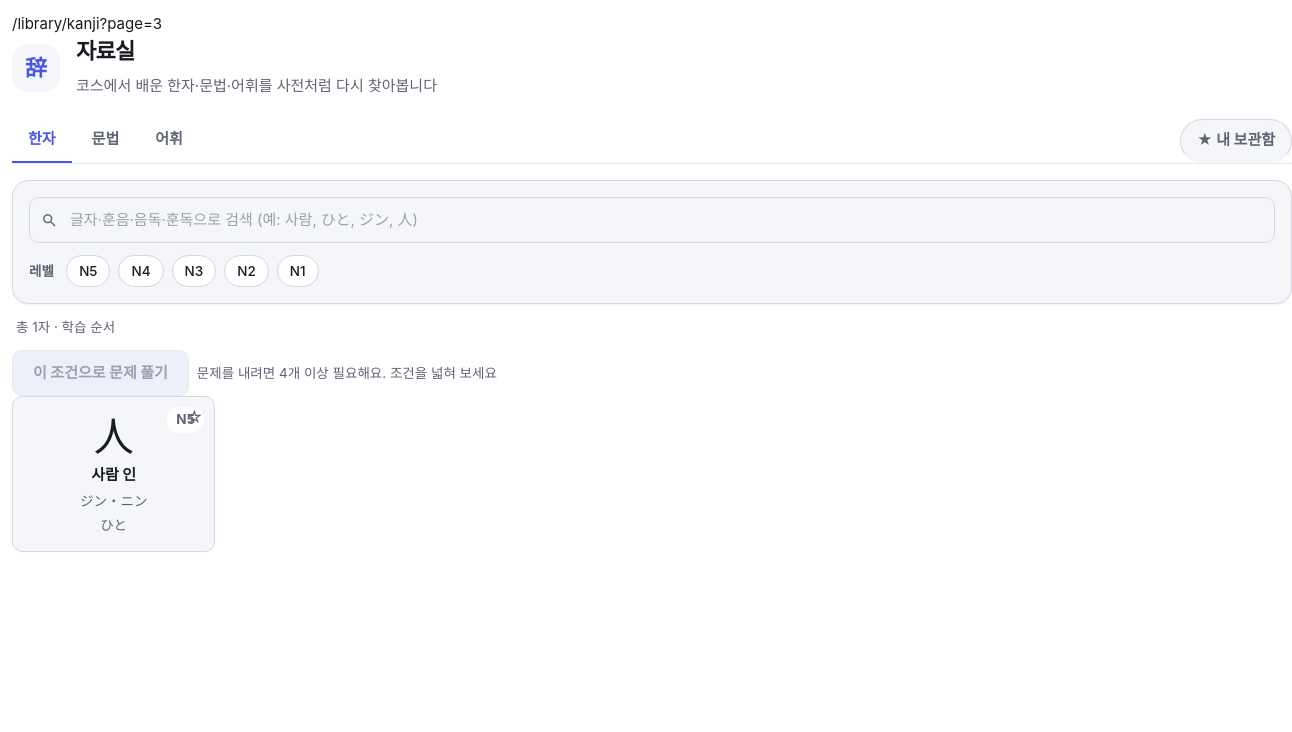
it: LibraryKanjiPage — 주소 동기화 (인수 6·7) › 레벨 칩을 누르면 주소에 반영되고 1페이지로 돌아간다
Check: the text "人" is shown, box x1=94 y1=414 x2=134 y2=462
Click the button "N4": x=141, y=271 x1=118 y1=255 x2=164 y2=287
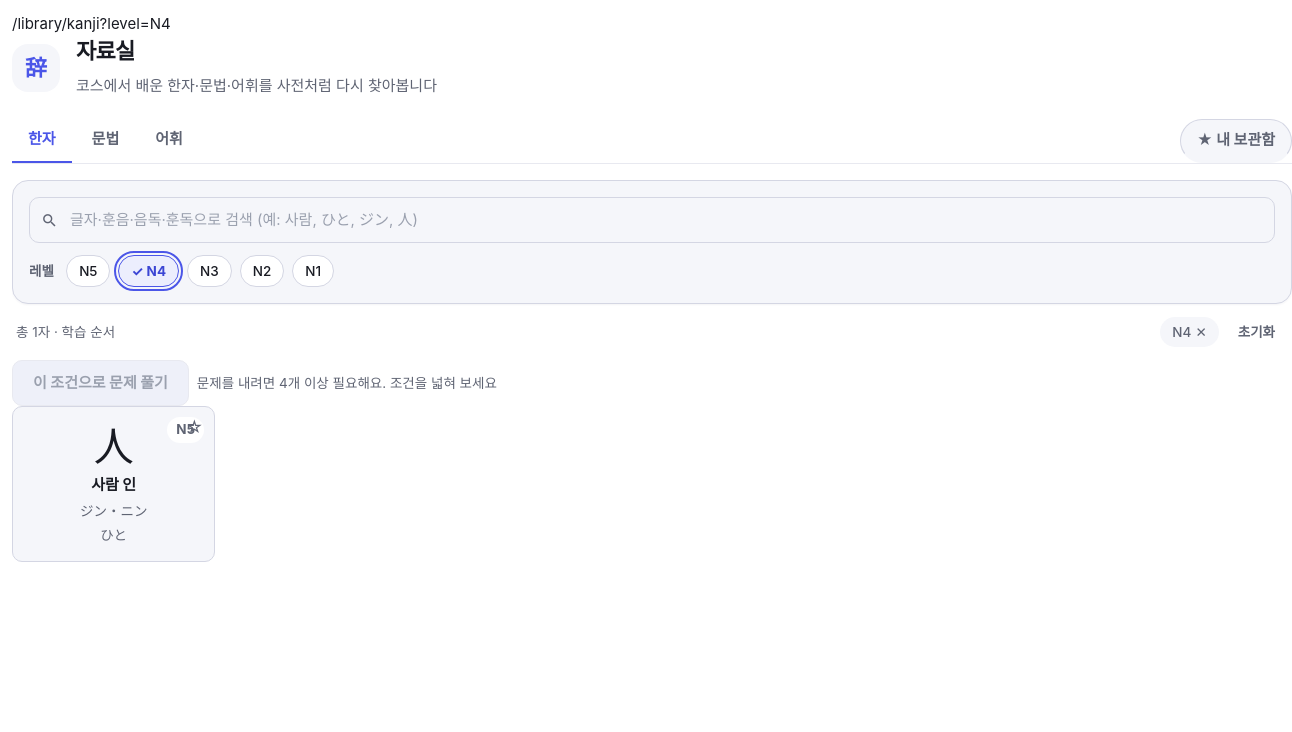
Check: the text with test id "location" reads "/library/kanji?level=N4", box x1=12 y1=14 x2=171 y2=33
